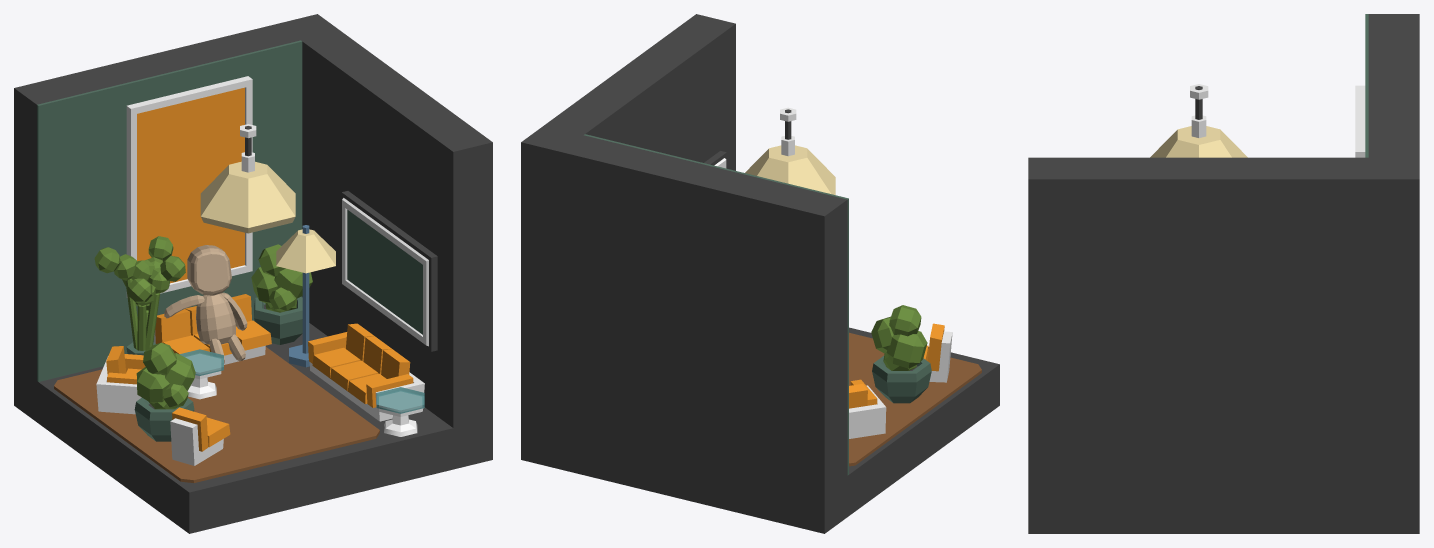
The model's file is indoor_tiny_scene_01.glb.
3 views of the same model, side by side, from view 1: azimuth 30°, elevation 25°; view 2: azimuth 150°, elevation 25°; view 3: azimuth 270°, elevation 25° (orthographic). The views are drawn at different scales.
Visible parts, largest first — view 1: Box14021, Object033_ggg_0, Box14048, Box14020, Box14049, Cylinder143_yellow2_0, Line002_orange_0, Cylinder134, Line001_orange_0, Head096, Cylinder137, Torso012 (+13 smaller); view 2: Box14021, Box14020, Cylinder143_yellow2_0, Cylinder142, Line003_white_0, Box14044, Object033_ggg_0, Box14047, Line004_white_0, Line004_orange_0, Line003_orange_0, Box14046; view 3: Box14021, Cylinder143_yellow2_0, Box14048, Cylinder143_white_0, Object033_ggg_0.
Part boxes in pixels (bbox=[...]): Box14021: bbox=[14, 14, 492, 533]; Object033_ggg_0: bbox=[37, 40, 302, 381]; Box14048: bbox=[126, 76, 252, 298]; Box14020: bbox=[54, 347, 379, 482]; Box14049: bbox=[341, 191, 437, 351]; Cylinder143_yellow2_0: bbox=[200, 161, 295, 233]; Line002_orange_0: bbox=[308, 323, 413, 407]; Cylinder134: bbox=[276, 225, 335, 367]; Line001_orange_0: bbox=[155, 294, 271, 355]; Head096: bbox=[187, 245, 231, 295]; Cylinder137: bbox=[376, 387, 424, 436]; Torso012: bbox=[196, 293, 235, 344]; Box14021: bbox=[521, 14, 999, 533]; Box14020: bbox=[849, 332, 981, 466]; Cylinder143_yellow2_0: bbox=[745, 145, 835, 194]; Cylinder142: bbox=[872, 355, 931, 403]; Line003_white_0: bbox=[849, 385, 886, 438]; Box14044: bbox=[886, 331, 927, 368]; Object033_ggg_0: bbox=[584, 134, 848, 475]; Box14047: bbox=[889, 305, 921, 336]; Line004_white_0: bbox=[929, 331, 952, 382]; Line004_orange_0: bbox=[923, 323, 944, 371]; Line003_orange_0: bbox=[849, 379, 877, 408]; Box14046: bbox=[871, 316, 893, 353]; Box14021: bbox=[1028, 14, 1419, 533]; Cylinder143_yellow2_0: bbox=[1150, 126, 1247, 157]; Box14048: bbox=[1355, 85, 1365, 157]; Cylinder143_white_0: bbox=[1190, 84, 1208, 137]; Object033_ggg_0: bbox=[1365, 14, 1368, 157].
Size of the model in its own units: 4.6 by 4.6 by 4.6.
